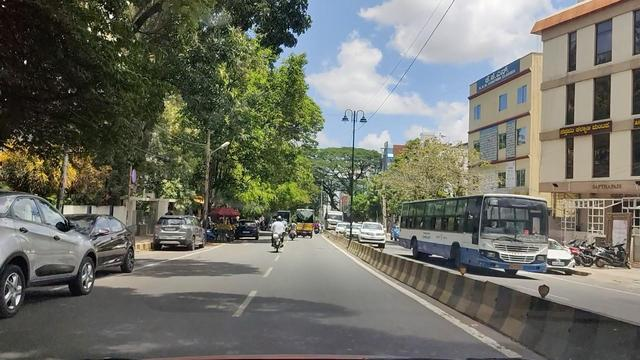LMV: (263, 207, 288, 252)
